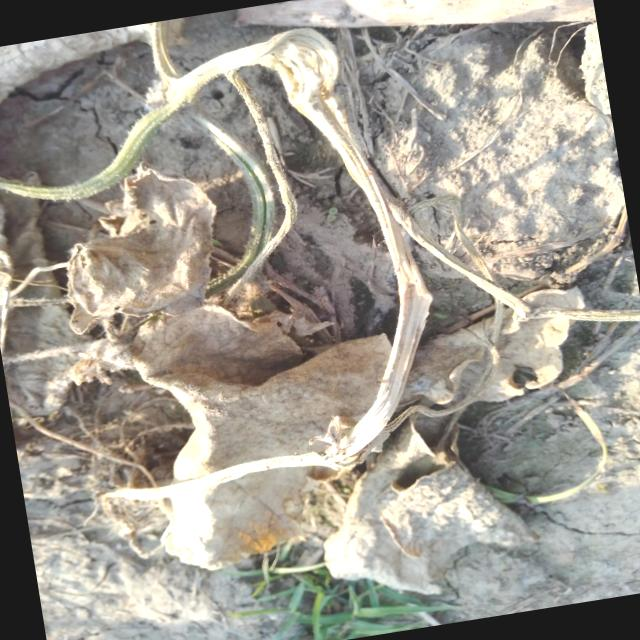cucumber_bacterial: (303, 414, 542, 602), (41, 154, 240, 350), (91, 326, 348, 464)
